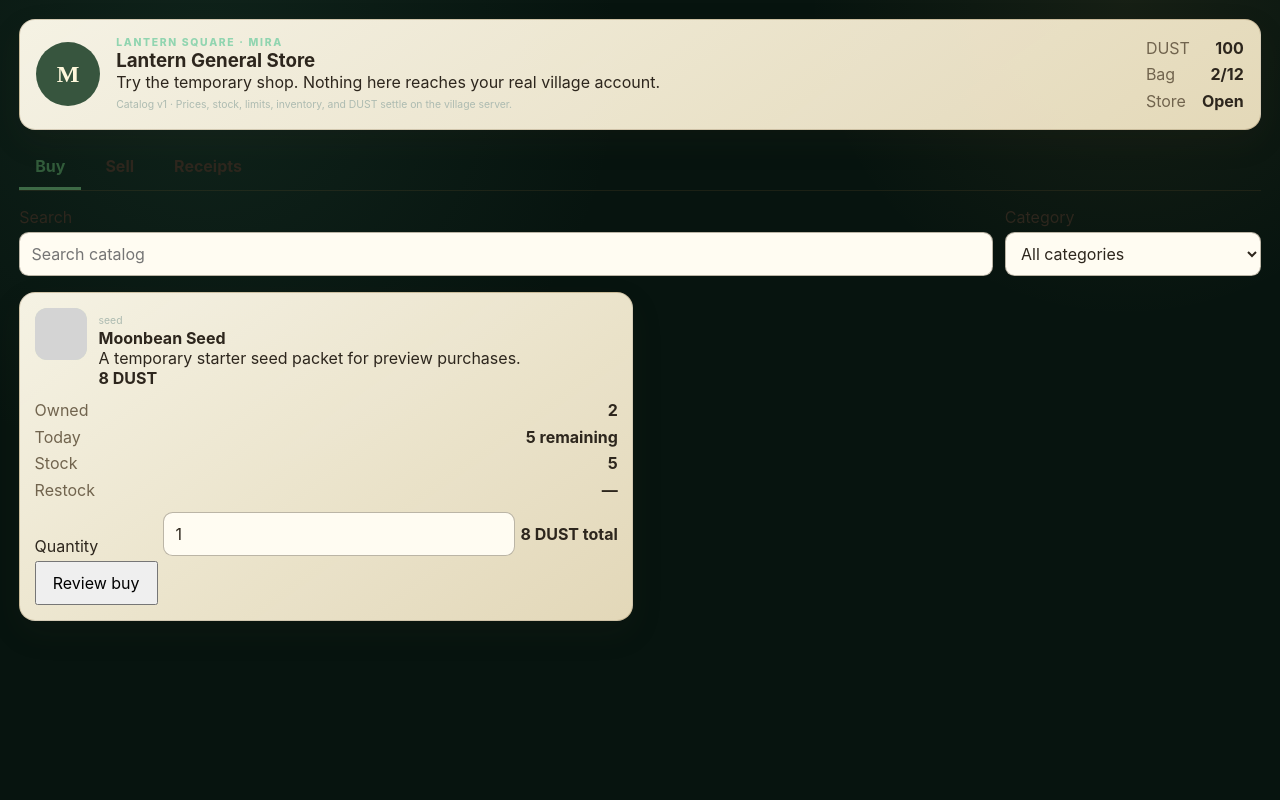
it: GeneralStorePanel › confirms a purchase and announces the authoritative receipt and balance
The width and height of the screenshot is (1280, 800).
Click the button "Review buy" at [96, 583], box [35, 561, 158, 605]
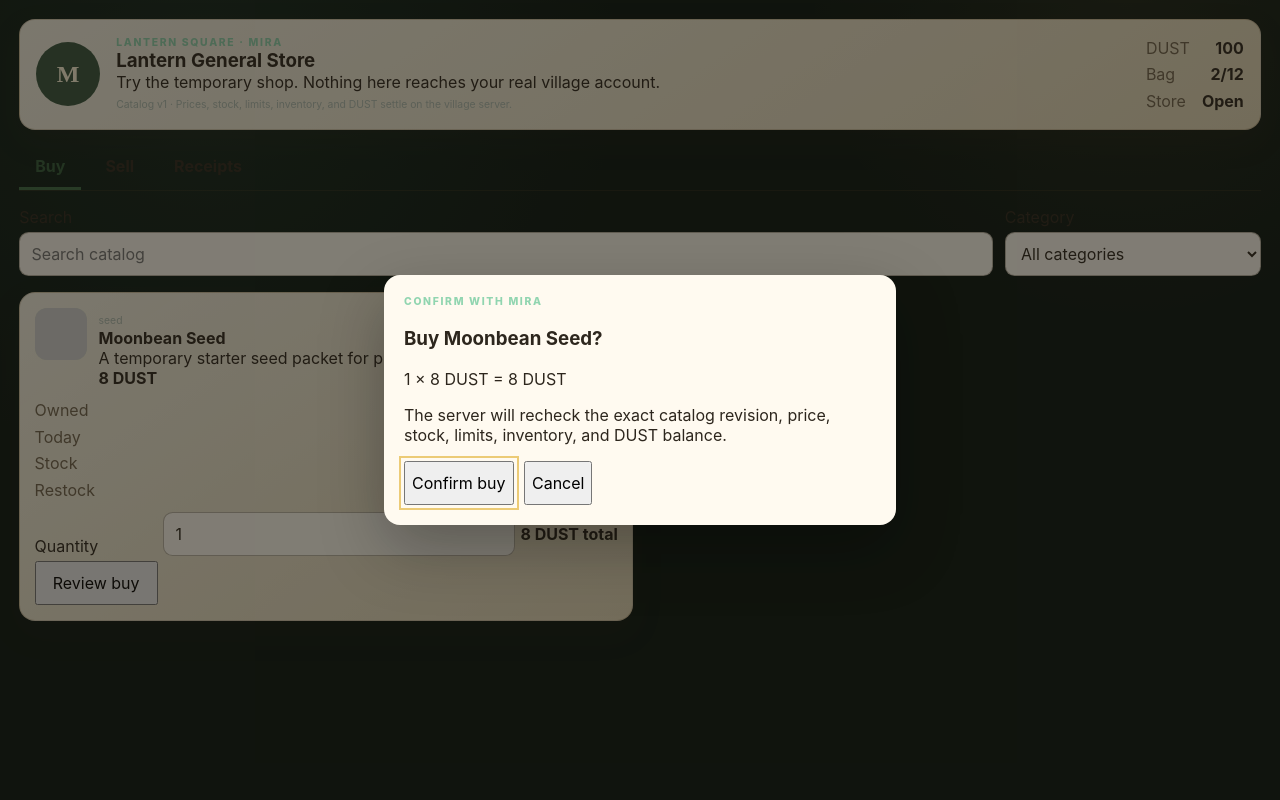
Check: the dialog shows "server will recheck", box [404, 405, 830, 445]
Check: the button "Confirm buy" is shown
Click the button "Confirm buy" at [459, 483], box [404, 461, 514, 505]
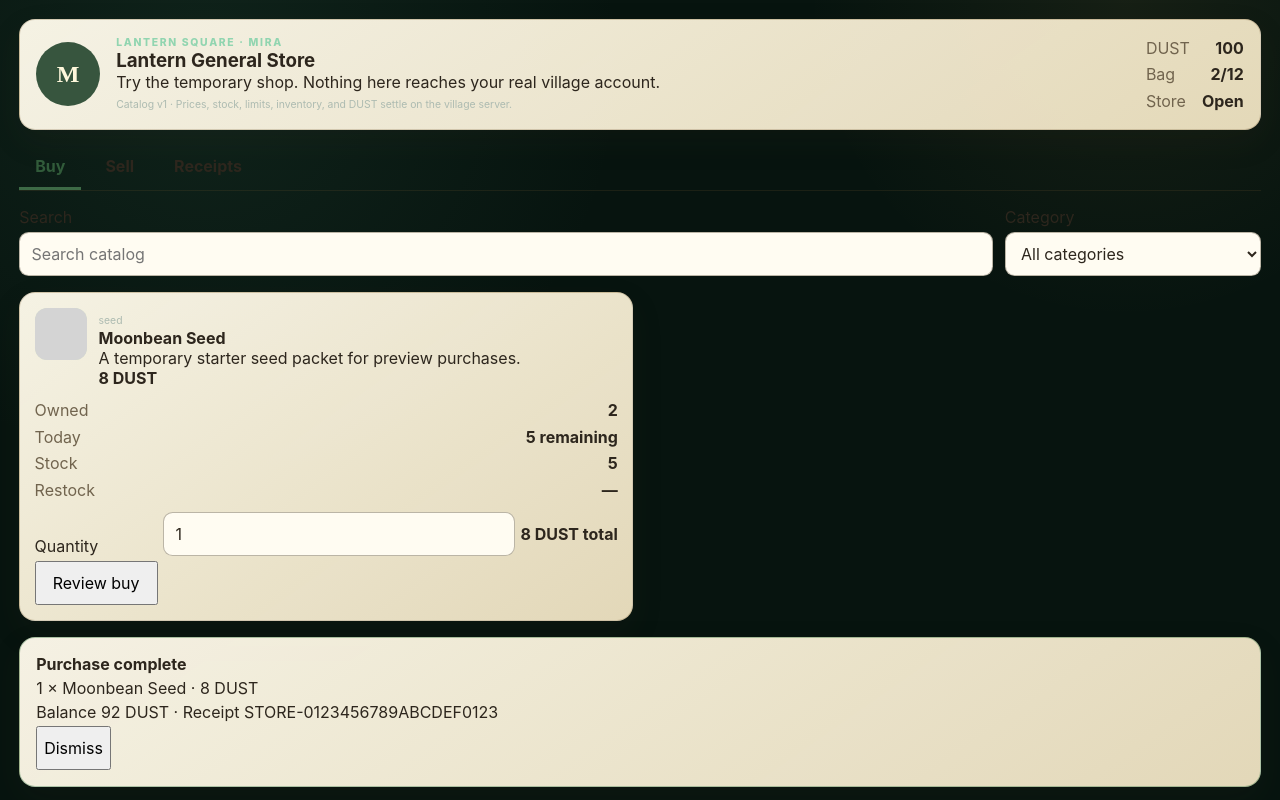
Check: the text "Purchase complete" is shown, box [36, 654, 187, 674]
Check: the text "Balance 92 DUST" is shown, box [36, 702, 498, 722]
Check: the text "STORE-0123456789ABCDEF0123" is shown, box [244, 702, 498, 722]
